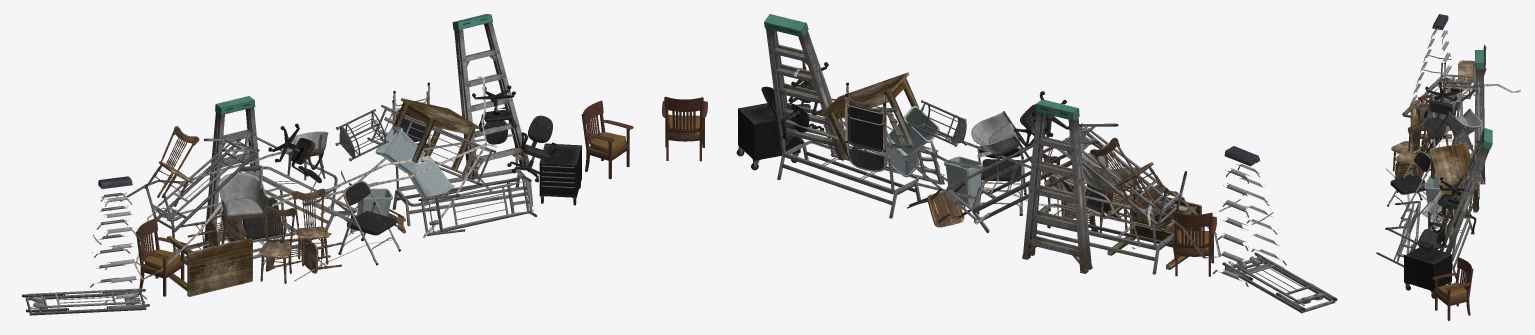
File: sm39_152_hallbarricade_01.fbx
3 views of the same model, side by side, from view 1: azimuth 30°, elevation 25°; view 2: azimuth 150°, elevation 25°; view 3: azimuth 270°, elevation 25° (orthographic). The views are drawn at different scales.
Visible parts, largest first — view 1: LOD_1_Group_0_Sub_9__sm21_027_Foldingladder01A_A_Mat, LOD_1_Group_0_Sub_2__sm30_012_OfficeChair01A_A_Mat, LOD_1_Group_0_Sub_11__sm30_108_FarmTable01A_A_Mat, LOD_1_Group_0_Sub_12__sm30_043_FoldingTable03A_A_Mat, LOD_1_Group_0_Sub_8__sm30_004_FoldingTable02A_A_Mat, LOD_1_Group_0_Sub_4__sm30_104_Dustbox01B_B_Mat, LOD_1_Group_3_Sub_1__sm30_057_OfficeChair_A_Mat, LOD_1_Group_0_Sub_3__sm30_143_WhiteLivingChair01A_D_Mat, LOD_1_Group_0_Sub_1__sm42_006_BlastBarricade01A_B_Mat1, LOD_1_Group_5_Sub_1__sm30_002_OfficeSofa01A_A_Mat, LOD_1_Group_4_Sub_2__sm30_039_OfficeCabinet06A_A_Mat, LOD_1_Group_6_Sub_1__sm30_002_OfficeSofa01A_A_Mat (+7 smaller); view 2: LOD_1_Group_0_Sub_9__sm21_027_Foldingladder01A_A_Mat, LOD_1_Group_6_Sub_1__sm30_002_OfficeSofa01A_A_Mat, LOD_1_Group_0_Sub_2__sm30_012_OfficeChair01A_A_Mat, LOD_1_Group_0_Sub_11__sm30_108_FarmTable01A_A_Mat, LOD_1_Group_0_Sub_10__sm30_153_FoldingChair01A_A_Mat, LOD_1_Group_5_Sub_1__sm30_002_OfficeSofa01A_A_Mat, LOD_1_Group_0_Sub_12__sm30_043_FoldingTable03A_A_Mat, LOD_1_Group_0_Sub_8__sm30_004_FoldingTable02A_A_Mat, LOD_1_Group_0_Sub_4__sm30_104_Dustbox01B_B_Mat, LOD_1_Group_0_Sub_3__sm30_143_WhiteLivingChair01A_D_Mat, LOD_1_Group_4_Sub_2__sm30_039_OfficeCabinet06A_A_Mat, LOD_1_Group_0_Sub_1__sm42_006_BlastBarricade01A_B_Mat1 (+6 smaller); view 3: LOD_1_Group_0_Sub_9__sm21_027_Foldingladder01A_A_Mat, LOD_1_Group_0_Sub_11__sm30_108_FarmTable01A_A_Mat, LOD_1_Group_0_Sub_2__sm30_012_OfficeChair01A_A_Mat, LOD_1_Group_4_Sub_2__sm30_039_OfficeCabinet06A_A_Mat, LOD_1_Group_3_Sub_1__sm30_057_OfficeChair_A_Mat, LOD_1_Group_0_Sub_12__sm30_043_FoldingTable03A_A_Mat, LOD_1_Group_0_Sub_7__sm30_118_WoodChair03A_A_Mat, LOD_1_Group_0_Sub_3__sm30_143_WhiteLivingChair01A_D_Mat, LOD_1_Group_0_Sub_13__sm30_153_FoldingChair01A_A_Mat1, LOD_1_Group_0_Sub_6__sm30_163_Foldingladder03A_A_Mat, LOD_1_Group_5_Sub_1__sm30_002_OfficeSofa01A_A_Mat, LOD_1_Group_0_Sub_8__sm30_004_FoldingTable02A_A_Mat (+7 smaller).
Boxes of the visible parts, left/top/right/bottom form: LOD_1_Group_0_Sub_9__sm21_027_Foldingladder01A_A_Mat: left=203, top=14, right=529, bottom=248; LOD_1_Group_0_Sub_2__sm30_012_OfficeChair01A_A_Mat: left=145, top=126, right=405, bottom=283; LOD_1_Group_0_Sub_11__sm30_108_FarmTable01A_A_Mat: left=167, top=98, right=479, bottom=296; LOD_1_Group_0_Sub_12__sm30_043_FoldingTable03A_A_Mat: left=145, top=137, right=537, bottom=236; LOD_1_Group_0_Sub_8__sm30_004_FoldingTable02A_A_Mat: left=22, top=105, right=496, bottom=315; LOD_1_Group_0_Sub_4__sm30_104_Dustbox01B_B_Mat: left=357, top=126, right=454, bottom=216; LOD_1_Group_3_Sub_1__sm30_057_OfficeChair_A_Mat: left=268, top=85, right=552, bottom=183; LOD_1_Group_0_Sub_3__sm30_143_WhiteLivingChair01A_D_Mat: left=218, top=131, right=328, bottom=244; LOD_1_Group_0_Sub_1__sm42_006_BlastBarricade01A_B_Mat1: left=116, top=76, right=497, bottom=281; LOD_1_Group_5_Sub_1__sm30_002_OfficeSofa01A_A_Mat: left=238, top=134, right=530, bottom=233; LOD_1_Group_4_Sub_2__sm30_039_OfficeCabinet06A_A_Mat: left=539, top=143, right=581, bottom=205; LOD_1_Group_6_Sub_1__sm30_002_OfficeSofa01A_A_Mat: left=171, top=170, right=533, bottom=265; LOD_1_Group_0_Sub_9__sm21_027_Foldingladder01A_A_Mat: left=764, top=14, right=1092, bottom=273; LOD_1_Group_6_Sub_1__sm30_002_OfficeSofa01A_A_Mat: left=777, top=142, right=1174, bottom=274; LOD_1_Group_0_Sub_2__sm30_012_OfficeChair01A_A_Mat: left=907, top=137, right=1184, bottom=232; LOD_1_Group_0_Sub_11__sm30_108_FarmTable01A_A_Mat: left=822, top=72, right=1201, bottom=269; LOD_1_Group_0_Sub_10__sm30_153_FoldingChair01A_A_Mat: left=845, top=82, right=1121, bottom=219; LOD_1_Group_5_Sub_1__sm30_002_OfficeSofa01A_A_Mat: left=780, top=119, right=1101, bottom=233; LOD_1_Group_0_Sub_12__sm30_043_FoldingTable03A_A_Mat: left=823, top=119, right=1186, bottom=227; LOD_1_Group_0_Sub_8__sm30_004_FoldingTable02A_A_Mat: left=843, top=107, right=1337, bottom=313; LOD_1_Group_0_Sub_4__sm30_104_Dustbox01B_B_Mat: left=881, top=106, right=982, bottom=206; LOD_1_Group_0_Sub_3__sm30_143_WhiteLivingChair01A_D_Mat: left=971, top=111, right=1137, bottom=224; LOD_1_Group_4_Sub_2__sm30_039_OfficeCabinet06A_A_Mat: left=736, top=103, right=800, bottom=170; LOD_1_Group_0_Sub_1__sm42_006_BlastBarricade01A_B_Mat1: left=794, top=68, right=1221, bottom=258; LOD_1_Group_0_Sub_9__sm21_027_Foldingladder01A_A_Mat: left=1438, top=50, right=1492, bottom=253; LOD_1_Group_0_Sub_11__sm30_108_FarmTable01A_A_Mat: left=1410, top=102, right=1479, bottom=216; LOD_1_Group_0_Sub_2__sm30_012_OfficeChair01A_A_Mat: left=1391, top=44, right=1486, bottom=229; LOD_1_Group_4_Sub_2__sm30_039_OfficeCabinet06A_A_Mat: left=1404, top=247, right=1451, bottom=298; LOD_1_Group_3_Sub_1__sm30_057_OfficeChair_A_Mat: left=1423, top=82, right=1476, bottom=243; LOD_1_Group_0_Sub_12__sm30_043_FoldingTable03A_A_Mat: left=1376, top=62, right=1475, bottom=267; LOD_1_Group_0_Sub_7__sm30_118_WoodChair03A_A_Mat: left=1432, top=257, right=1473, bottom=320; LOD_1_Group_0_Sub_3__sm30_143_WhiteLivingChair01A_D_Mat: left=1417, top=93, right=1482, bottom=145; LOD_1_Group_0_Sub_13__sm30_153_FoldingChair01A_A_Mat1: left=1387, top=151, right=1430, bottom=218; LOD_1_Group_0_Sub_6__sm30_163_Foldingladder03A_A_Mat: left=1407, top=14, right=1452, bottom=111; LOD_1_Group_5_Sub_1__sm30_002_OfficeSofa01A_A_Mat: left=1425, top=89, right=1480, bottom=261; LOD_1_Group_0_Sub_8__sm30_004_FoldingTable02A_A_Mat: left=1402, top=74, right=1475, bottom=230.
Size of the model in its own units: 11.29 by 2.92 by 2.82.
